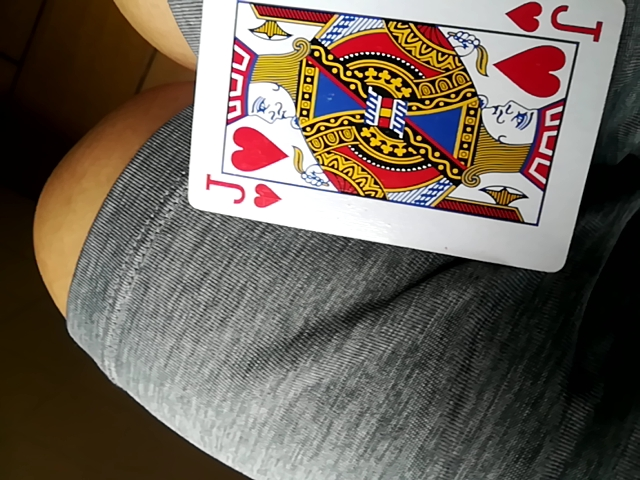hx j: (188, 2, 622, 277)
